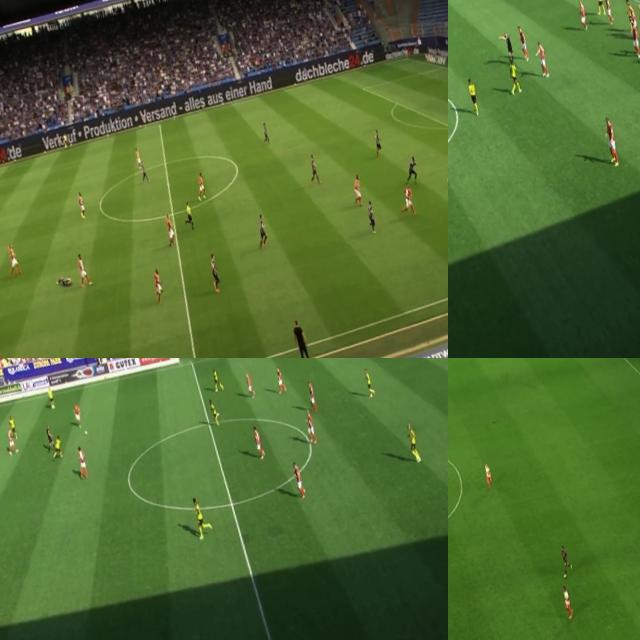ball: (81, 427, 89, 437), (445, 174, 448, 185)
player: (602, 114, 622, 164), (395, 180, 417, 218), (192, 497, 212, 538), (404, 421, 422, 466), (74, 250, 94, 290), (348, 169, 367, 210), (5, 240, 23, 279), (464, 77, 482, 116), (504, 56, 522, 95), (514, 21, 532, 60), (302, 408, 320, 447), (252, 212, 270, 247), (206, 253, 222, 292), (402, 150, 419, 186), (149, 268, 166, 304), (534, 40, 551, 76), (250, 423, 266, 460), (74, 442, 90, 479), (291, 459, 306, 498), (557, 542, 574, 576), (626, 0, 640, 37), (163, 212, 177, 248), (4, 426, 20, 457), (370, 125, 385, 158), (363, 198, 377, 233), (626, 22, 640, 57), (362, 364, 376, 398), (194, 168, 207, 202), (480, 459, 494, 490), (561, 585, 574, 618), (272, 364, 286, 394), (307, 152, 320, 184), (306, 378, 318, 412), (75, 188, 88, 218), (576, 0, 589, 30), (52, 433, 66, 460), (602, 0, 616, 26), (243, 372, 256, 400), (591, 0, 608, 21), (54, 274, 72, 292), (208, 396, 220, 423), (211, 366, 222, 390), (260, 118, 270, 144), (45, 382, 55, 408), (72, 404, 82, 428), (8, 412, 18, 434), (133, 148, 143, 169), (140, 161, 148, 181), (636, 0, 640, 36)
